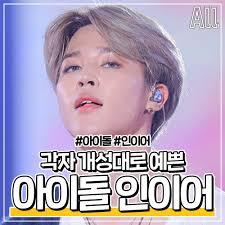earphone: (146, 88, 164, 103)
